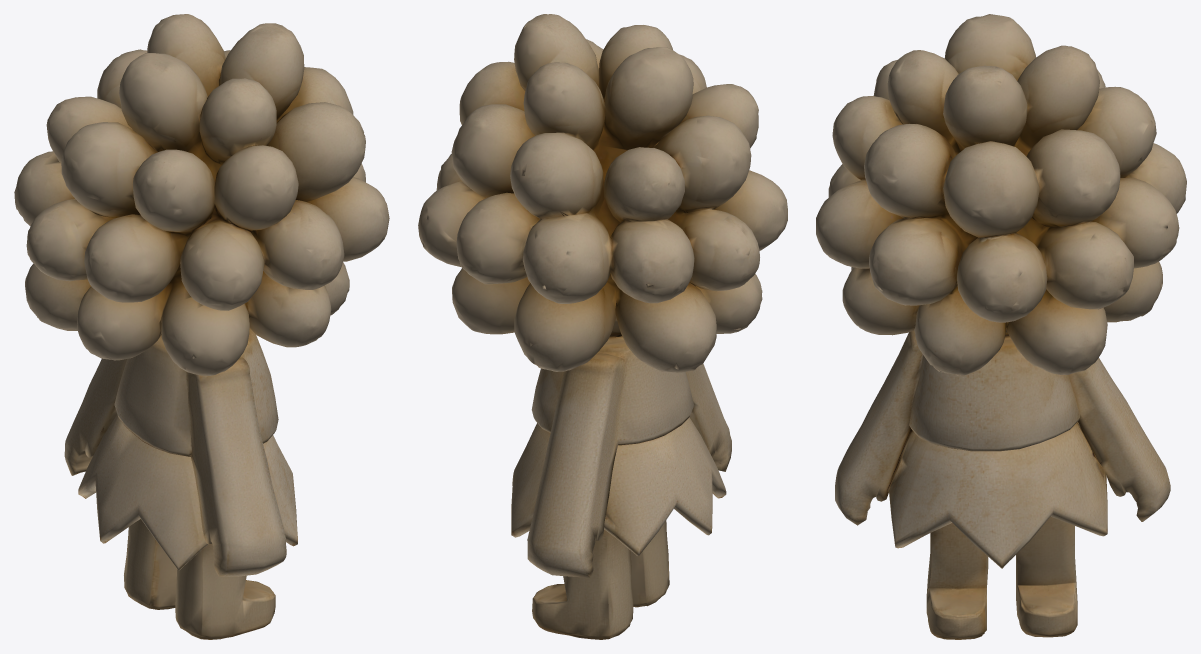
The model's file is pal_berry.glb.
3 views of the same model, side by side, from view 1: azimuth 30°, elevation 25°; view 2: azimuth 150°, elevation 25°; view 3: azimuth 270°, elevation 25° (orthographic). The views are drawn at different scales.
Visible parts, largest first — view 1: tripo_node_025261df-6b3b-4fc1-a887-f9c3f53742aa; view 2: tripo_node_025261df-6b3b-4fc1-a887-f9c3f53742aa; view 3: tripo_node_025261df-6b3b-4fc1-a887-f9c3f53742aa.
Part boxes in pixels (x1=…): tripo_node_025261df-6b3b-4fc1-a887-f9c3f53742aa: x1=14, y1=14, x2=389, y2=639; tripo_node_025261df-6b3b-4fc1-a887-f9c3f53742aa: x1=418, y1=14, x2=787, y2=639; tripo_node_025261df-6b3b-4fc1-a887-f9c3f53742aa: x1=816, y1=14, x2=1186, y2=639.
Size of the model in its own units: 0.5879 by 0.998 by 0.5762.
1 material, 1 textured.
